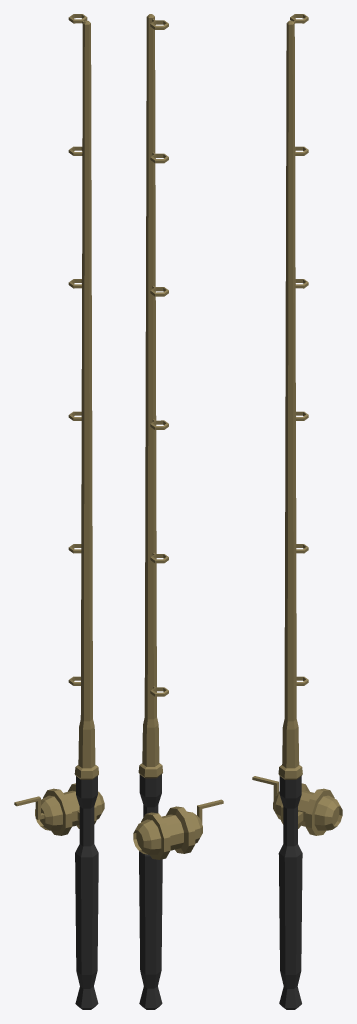
File: FishingRod_Lvl4.glb
3 views of the same model, side by side, from view 1: azimuth 30°, elevation 25°; view 2: azimuth 210°, elevation 25°; view 3: azimuth 330°, elevation 25° (orthographic).
Parts seen in each view (by area): view 1: FishingRod_Lvl4; view 2: FishingRod_Lvl4; view 3: FishingRod_Lvl4.
Part boxes in pixels (x1,y1,x2,y2): FishingRod_Lvl4: [14, 14, 104, 1009]; FishingRod_Lvl4: [133, 14, 223, 1009]; FishingRod_Lvl4: [252, 14, 342, 1009].
Size of the model in its own units: 0.6565 by 7.38 by 0.4698.
